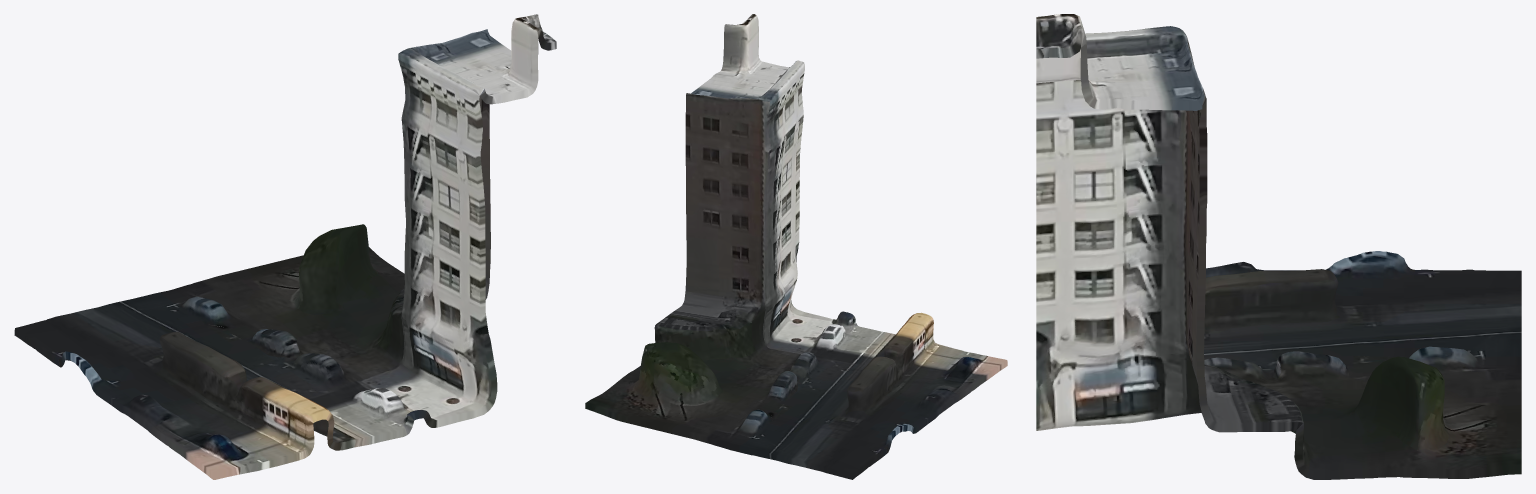
The model's file is z20-167780-405227-h0-yup-uvflip-v3-world.glb.
3 renders of one model, left to right at view 1: azimuth 30°, elevation 25°; view 2: azimuth 150°, elevation 25°; view 3: azimuth 270°, elevation 25°, orthographic. The views are drawn at different scales.
Size of the model in its own units: 30.2 by 31.64 by 30.32.
Materials: 1 (1 with a texture image).
